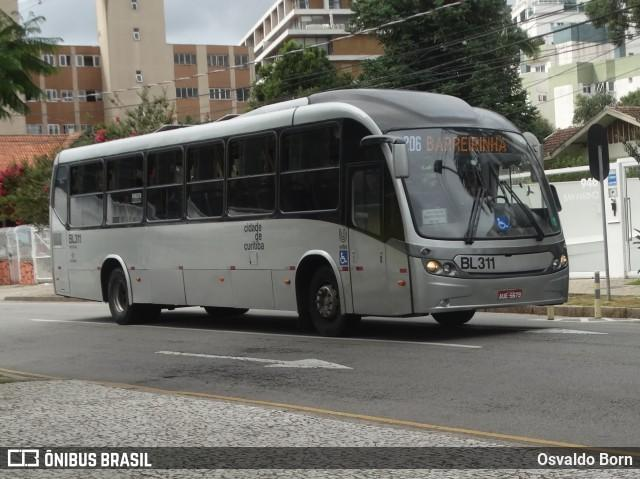BARREIRINHA: (422, 132, 511, 154)
